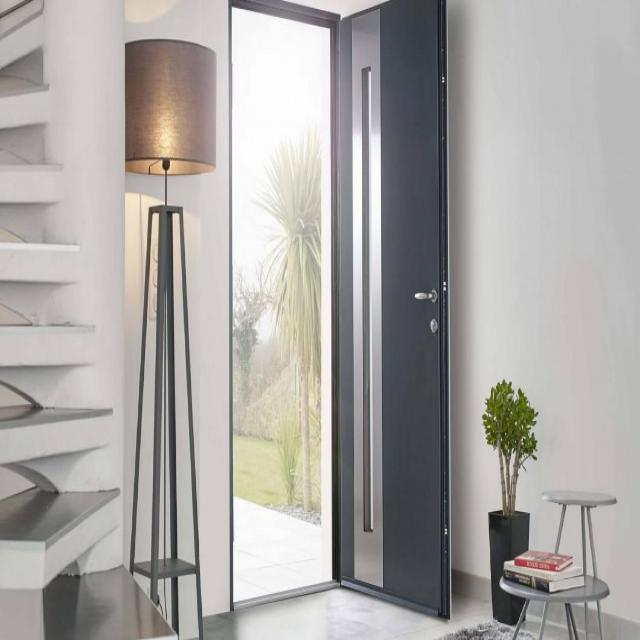open: (217, 0, 473, 634)
